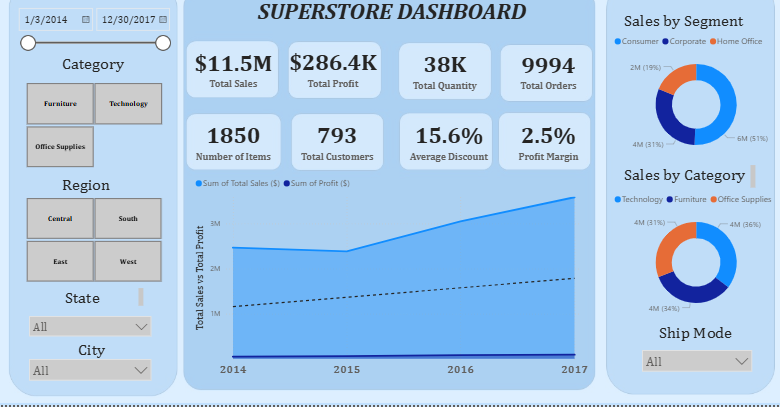

Layout of this report page (visuals, bound fields, positions):
{"tool":"powerbi","page":{"name":"Page 1","canvas":[1280,720],"ordinal":0},"visuals":[{"type":"card","fields":{"Values":["Sample - Superstore Jay CSV.Total Sales"]},"box":[304,120.9,157.9,94.1],"z":0},{"type":"card","fields":{"Values":["Sample - Superstore Jay CSV.Total Profit"]},"box":[462.5,117.7,166.5,99.2],"z":1000},{"type":"card","fields":{"Values":["Sample - Superstore Jay CSV.Total Quantity"]},"box":[652.6,121.1,153.1,99.2],"z":2000},{"type":"card","fields":{"Values":["Sample - Superstore Jay CSV.Total Items"]},"box":[304.4,233.8,158.1,104.3],"z":3000},{"type":"card","fields":{"Values":["Sample - Superstore Jay CSV.Total Orders"]},"box":[819.1,122.8,161.5,97.6],"z":4000},{"type":"card","title":"Tota","fields":{"Values":["Sample - Superstore Jay CSV.Total Customers"]},"box":[477.7,233.8,151.4,104.3],"z":5000},{"type":"card","fields":{"Values":["Sample - Superstore Jay CSV.Average Discount"]},"box":[652.6,233.8,166.5,104.3],"z":6000},{"type":"card","fields":{"Values":["Sample - Superstore Jay CSV.Profit Margin"]},"box":[819.1,233.8,161.5,104.3],"z":7000},{"type":"textbox","box":[117.7,25.2,75.7,47.1],"z":8000},{"type":"slicer","fields":{"Values":["Sample - Superstore Jay CSV.Order Date"]},"box":[20.2,60.5,270.4,87.3],"z":9000},{"type":"textbox","box":[31.9,136.1,223.4,97.4],"z":10000},{"type":"slicer","fields":{"Values":["Sample - Superstore Jay CSV.Category"]},"box":[20.2,186.7,270.8,151.4],"z":11000},{"type":"textbox","box":[80.7,338.1,124.5,48.8],"z":12000},{"type":"slicer","fields":{"Values":["Sample - Superstore Jay CSV.Region"]},"box":[20.2,374.6,270.4,149.5],"z":13000},{"type":"textbox","box":[38.6,524.1,201.6,40.3],"z":14000},{"type":"slicer","fields":{"Values":["Sample - Superstore Jay CSV.State"]},"box":[38.6,564.4,220.1,134.4],"z":15000},{"type":"slicer","fields":{"Values":["Sample - Superstore Jay CSV.City"]},"box":[38.6,635,220.1,73.9],"z":16000},{"type":"textbox","box":[33.6,608.1,220.1,53.8],"z":17000},{"type":"textbox","box":[1018,70.6,211.7,77.3],"z":18000},{"type":"donutChart","fields":{"Y":["Sample - Superstore Jay CSV.Sales by Segment"],"Category":["Sample - Superstore Jay CSV.Segment"]},"box":[1001.2,104.1,278.8,218.4],"z":19000},{"type":"donutChart","fields":{"Category":["Sample - Superstore Jay CSV.Category"],"Y":["Sample - Superstore Jay CSV.Sales by SUMX"]},"box":[1001.2,362.8,278.8,218.4],"z":20000},{"type":"textbox","box":[1018,322.5,225.1,52.1],"z":21000},{"type":"slicer","fields":{"Values":["Sample - Superstore Jay CSV.Ship Mode"]},"box":[1043.1,619.8,199.9,52.1],"z":22000},{"type":"textbox","box":[1075.1,581.2,132.7,50.4],"z":23000},{"type":"areaChart","fields":{"Y":["Sample - Superstore Jay CSV.Total Sales ($)","Sample - Superstore Jay CSV.Profit ($)"],"Category":["Sample - Superstore Jay CSV.Order Date.Variation.Date Hierarchy.Year"]},"box":[315.4,337.1,654.2,343.8],"z":24000},{"type":"textbox","box":[303.7,48.4,677.5,75.1],"z":25000}]}

Visuals, with their boxes on the page's 1280x720 design canvas (x1, y1, x2, y2). These are canvas units, not pixel positions in the 780x407 screenshot, which may show the page scaled, cropped or inside an application window:
card - Sample - Superstore Jay CSV.Total Sales: 304,121,462,215
card - Sample - Superstore Jay CSV.Total Profit: 462,118,629,217
card - Sample - Superstore Jay CSV.Total Quantity: 653,121,806,220
card - Sample - Superstore Jay CSV.Total Items: 304,234,462,338
card - Sample - Superstore Jay CSV.Total Orders: 819,123,981,220
"Tota" card: 478,234,629,338
card - Sample - Superstore Jay CSV.Average Discount: 653,234,819,338
card - Sample - Superstore Jay CSV.Profit Margin: 819,234,981,338
textbox: 118,25,193,72
slicer - Sample - Superstore Jay CSV.Order Date: 20,60,291,148
textbox: 32,136,255,234
slicer - Sample - Superstore Jay CSV.Category: 20,187,291,338
textbox: 81,338,205,387
slicer - Sample - Superstore Jay CSV.Region: 20,375,291,524
textbox: 39,524,240,564
slicer - Sample - Superstore Jay CSV.State: 39,564,259,699
slicer - Sample - Superstore Jay CSV.City: 39,635,259,709
textbox: 34,608,254,662
textbox: 1018,71,1230,148
donutChart - Sample - Superstore Jay CSV.Sales by Segment x Sample - Superstore Jay CSV.Segment: 1001,104,1280,322
donutChart - Sample - Superstore Jay CSV.Category x Sample - Superstore Jay CSV.Sales by SUMX: 1001,363,1280,581
textbox: 1018,322,1243,375
slicer - Sample - Superstore Jay CSV.Ship Mode: 1043,620,1243,672
textbox: 1075,581,1208,632
areaChart - Sample - Superstore Jay CSV.Total Sales ($) x Sample - Superstore Jay CSV.Profit ($): 315,337,970,681
textbox: 304,48,981,124
